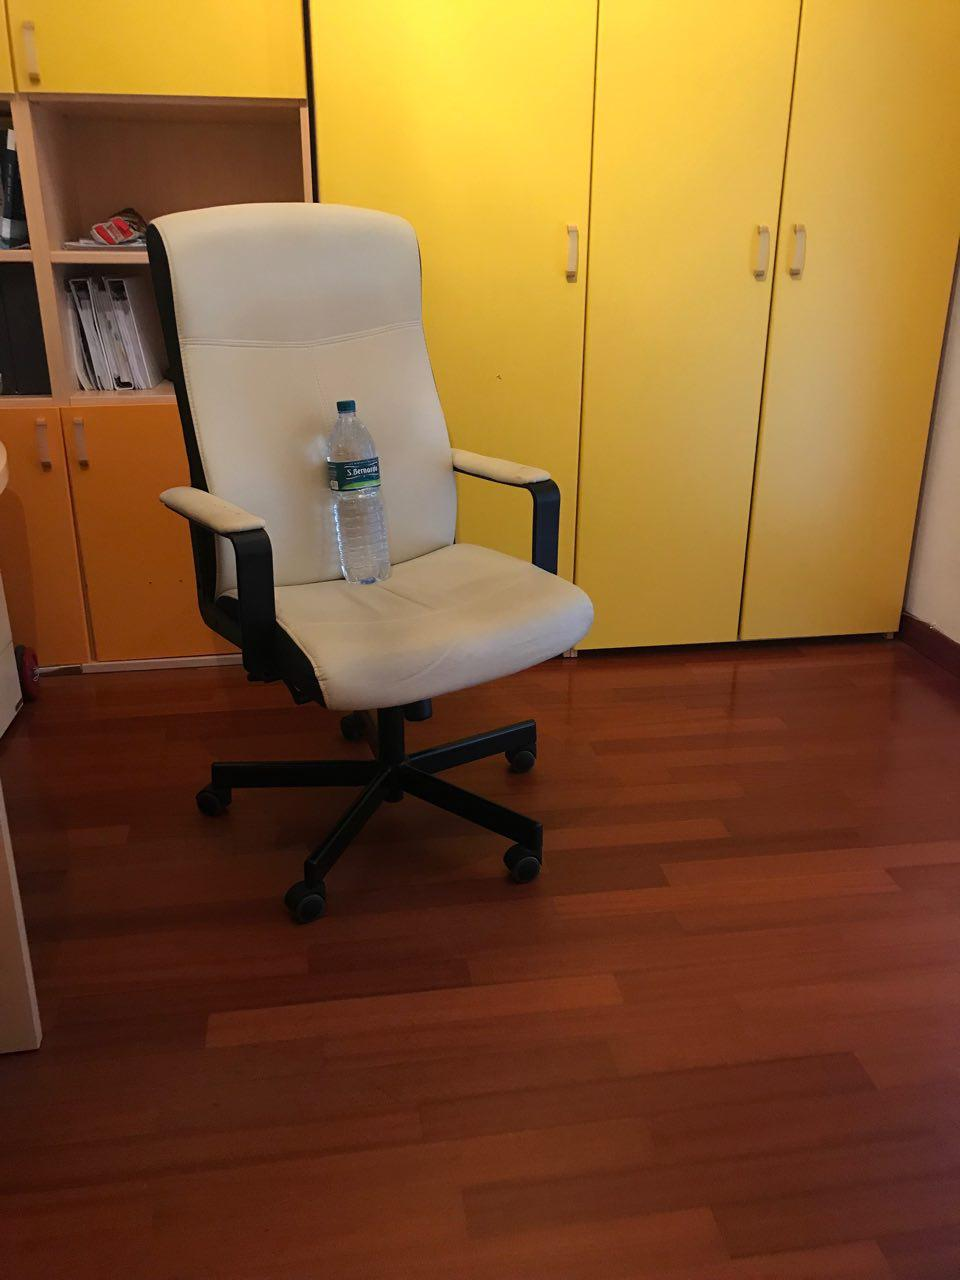san_bernardo: (327, 400, 391, 584)
